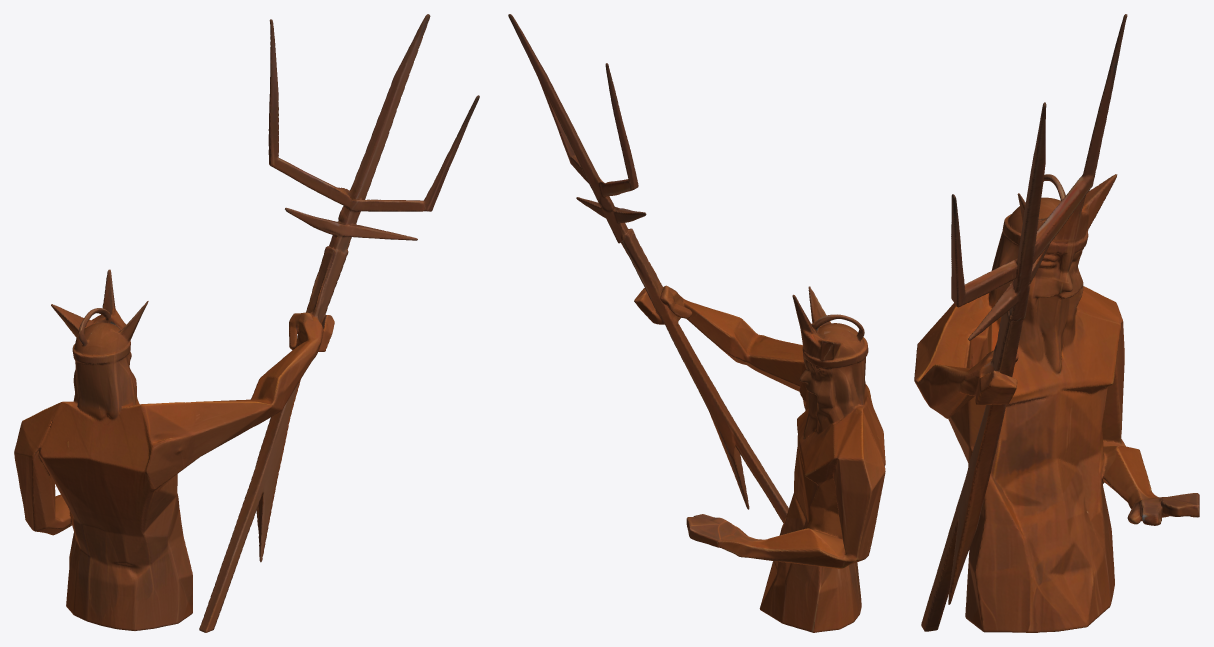
Rendered from collectible_9_monument_nikole_vudraga.glb.
The picture shows the model from 3 angles, left to right: view 1: azimuth 30°, elevation 25°; view 2: azimuth 150°, elevation 25°; view 3: azimuth 270°, elevation 25°; orthographic projection. The views are drawn at different scales.
Visible parts, largest first — view 1: tripo_node_ba0c7571-e2d6-443f-b096-26ecc8348f75; view 2: tripo_node_ba0c7571-e2d6-443f-b096-26ecc8348f75; view 3: tripo_node_ba0c7571-e2d6-443f-b096-26ecc8348f75.
Boxes of the visible parts, left/top/right/bottom form: tripo_node_ba0c7571-e2d6-443f-b096-26ecc8348f75: left=14, top=14, right=479, bottom=632; tripo_node_ba0c7571-e2d6-443f-b096-26ecc8348f75: left=508, top=14, right=885, bottom=632; tripo_node_ba0c7571-e2d6-443f-b096-26ecc8348f75: left=914, top=14, right=1199, bottom=632.
Size of the model in its own units: 0.8107 by 1 by 0.3673.
1 material, 1 textured.
